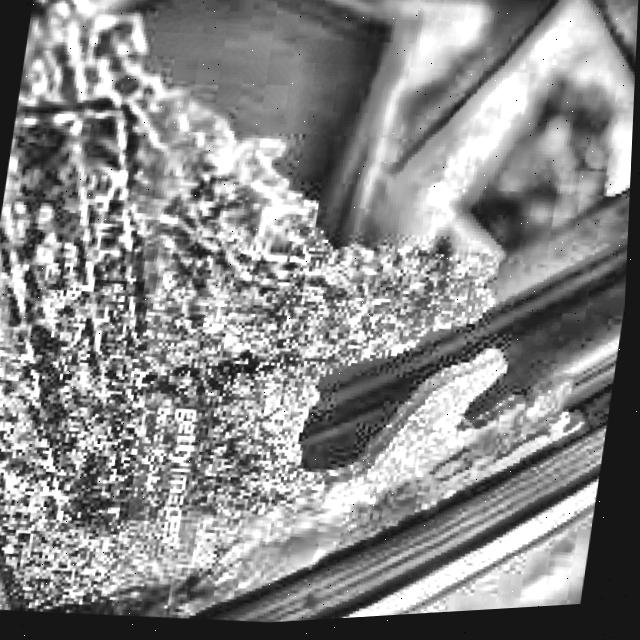glass_shatter: (213, 0, 640, 513)
